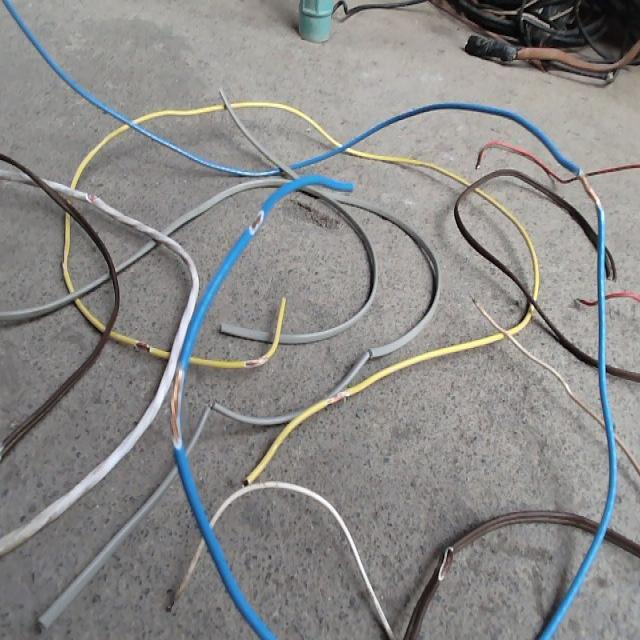-: (169, 365, 184, 444), (437, 544, 453, 581), (247, 208, 263, 233), (134, 337, 151, 355), (244, 356, 268, 368), (83, 189, 96, 203), (329, 391, 346, 401)
